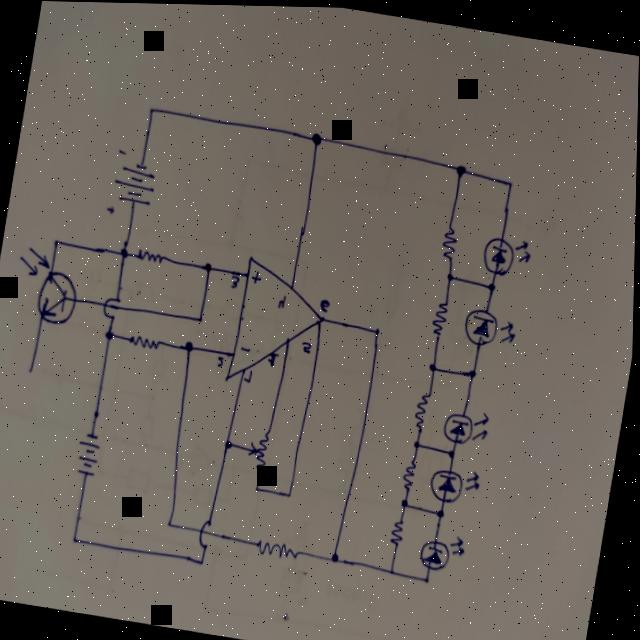crossover: (196, 516, 218, 552), (102, 294, 123, 322)
diode: (462, 305, 519, 351), (480, 232, 534, 279), (441, 404, 492, 453), (428, 463, 484, 507), (417, 529, 469, 575)
junction: (99, 324, 125, 348), (432, 502, 450, 525), (308, 129, 326, 150), (453, 158, 470, 179), (446, 442, 462, 463), (410, 434, 427, 452), (329, 547, 344, 566), (117, 243, 131, 262), (183, 338, 197, 356), (466, 363, 480, 381), (371, 322, 385, 340), (504, 175, 518, 192), (484, 279, 500, 293), (444, 268, 456, 286), (428, 358, 441, 373), (195, 310, 208, 325), (71, 532, 84, 547), (401, 495, 413, 511), (286, 486, 298, 502), (224, 436, 236, 452), (254, 481, 266, 496), (165, 517, 178, 530), (202, 261, 214, 275), (146, 105, 158, 118), (387, 564, 399, 577), (52, 237, 63, 250), (423, 572, 434, 585), (199, 555, 209, 568)
resistor: (243, 426, 272, 475), (256, 536, 304, 564), (414, 388, 434, 435), (439, 224, 461, 263), (430, 298, 451, 338), (129, 332, 164, 354), (132, 246, 166, 267), (403, 458, 420, 493), (391, 518, 408, 550)
source: (105, 148, 159, 222), (74, 430, 105, 478)
terminal: (26, 362, 38, 378)
text: (318, 297, 332, 314), (266, 351, 280, 368), (251, 268, 264, 285), (301, 340, 314, 354), (278, 293, 288, 310), (244, 368, 255, 383), (231, 275, 241, 290), (216, 355, 226, 369), (240, 346, 254, 354)
transistor: (10, 247, 85, 329)
